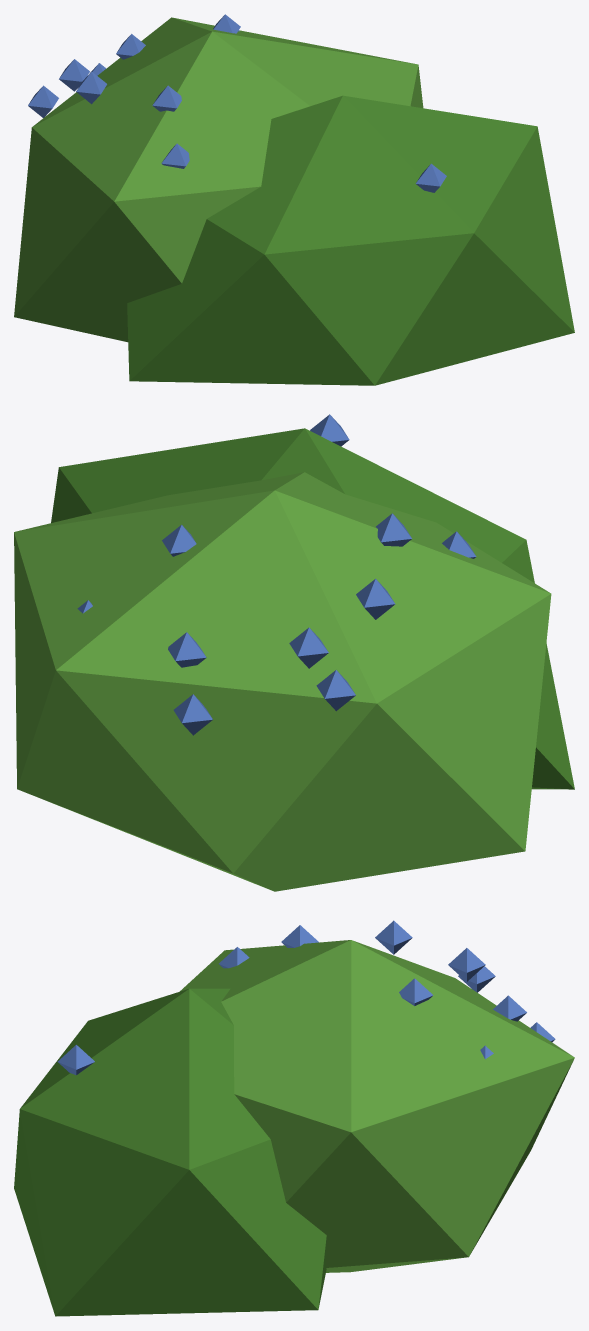
The model's file is HS_LP_Bush_Berry_Blue_01.fbx.
The picture shows the model from 3 angles, top to bottom: view 1: azimuth 30°, elevation 25°; view 2: azimuth 150°, elevation 25°; view 3: azimuth 270°, elevation 25°; orthographic projection. The views are drawn at different scales.
Parts seen in each view (by area): view 1: HS_LP_Bush_Berry_Blue_01; view 2: HS_LP_Bush_Berry_Blue_01; view 3: HS_LP_Bush_Berry_Blue_01.
Boxes of the visible parts, bbox=[...] form: HS_LP_Bush_Berry_Blue_01: bbox=[14, 14, 574, 385]; HS_LP_Bush_Berry_Blue_01: bbox=[14, 414, 574, 891]; HS_LP_Bush_Berry_Blue_01: bbox=[14, 920, 574, 1316].
Size of the model in its own units: 85.13 by 57.85 by 88.53.
